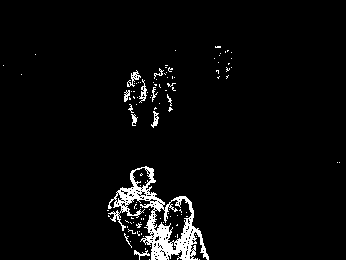person: (109, 165, 168, 260), (151, 194, 211, 260), (151, 66, 175, 130), (123, 71, 146, 126)
